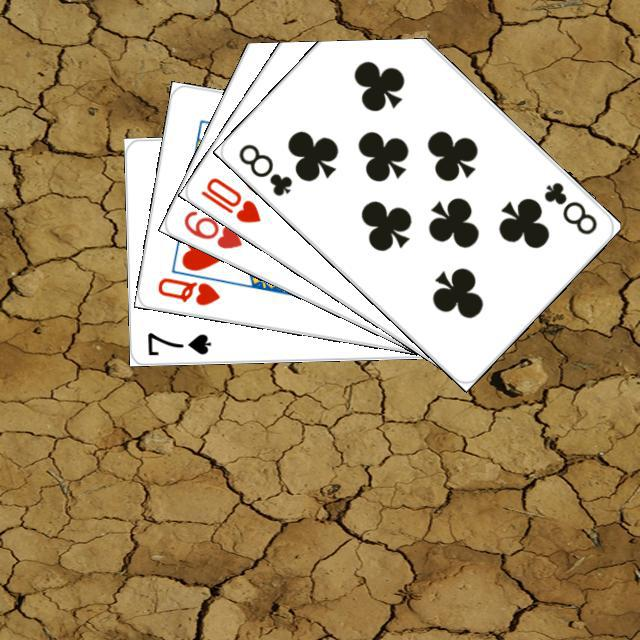10h: (195, 172, 263, 225)
6h: (178, 205, 244, 251)
7s: (143, 327, 213, 357)
8c: (538, 176, 600, 237), (233, 138, 294, 198)
Qh: (152, 272, 222, 308)
